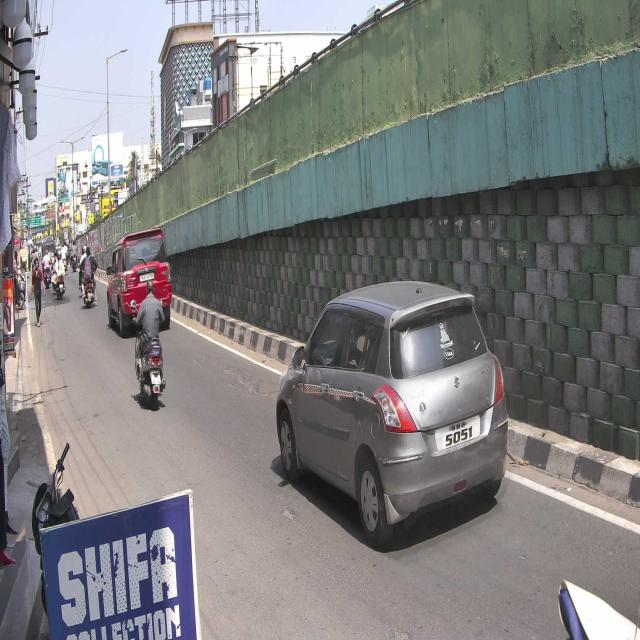single_rider: (130, 279, 168, 410)
